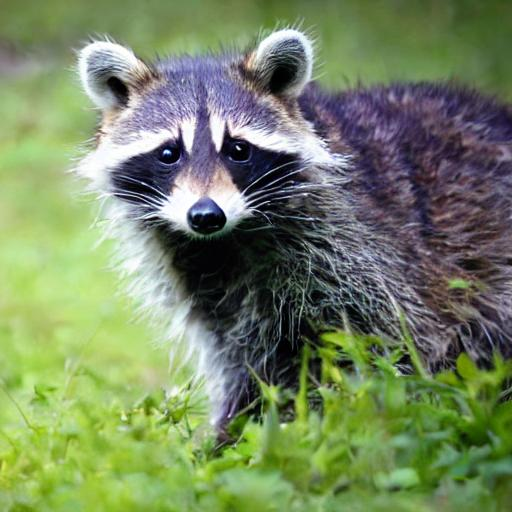raccoon: (67, 19, 512, 434)
